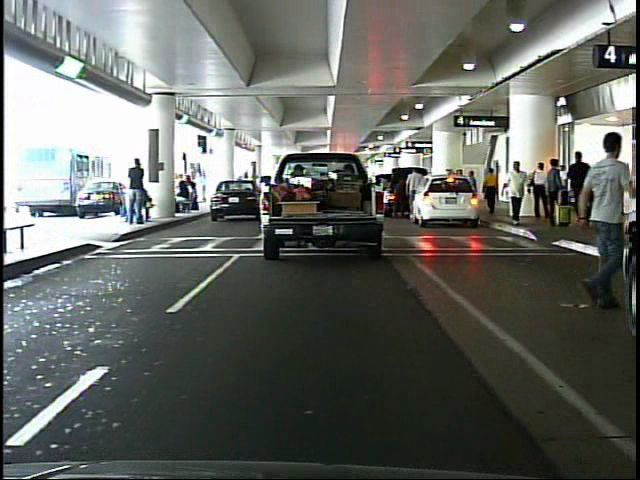person: (560, 114, 640, 324), (569, 144, 597, 232), (503, 157, 534, 230), (599, 162, 633, 222), (128, 158, 152, 228), (403, 164, 427, 220), (530, 161, 551, 225), (545, 157, 563, 228), (484, 163, 502, 216)
